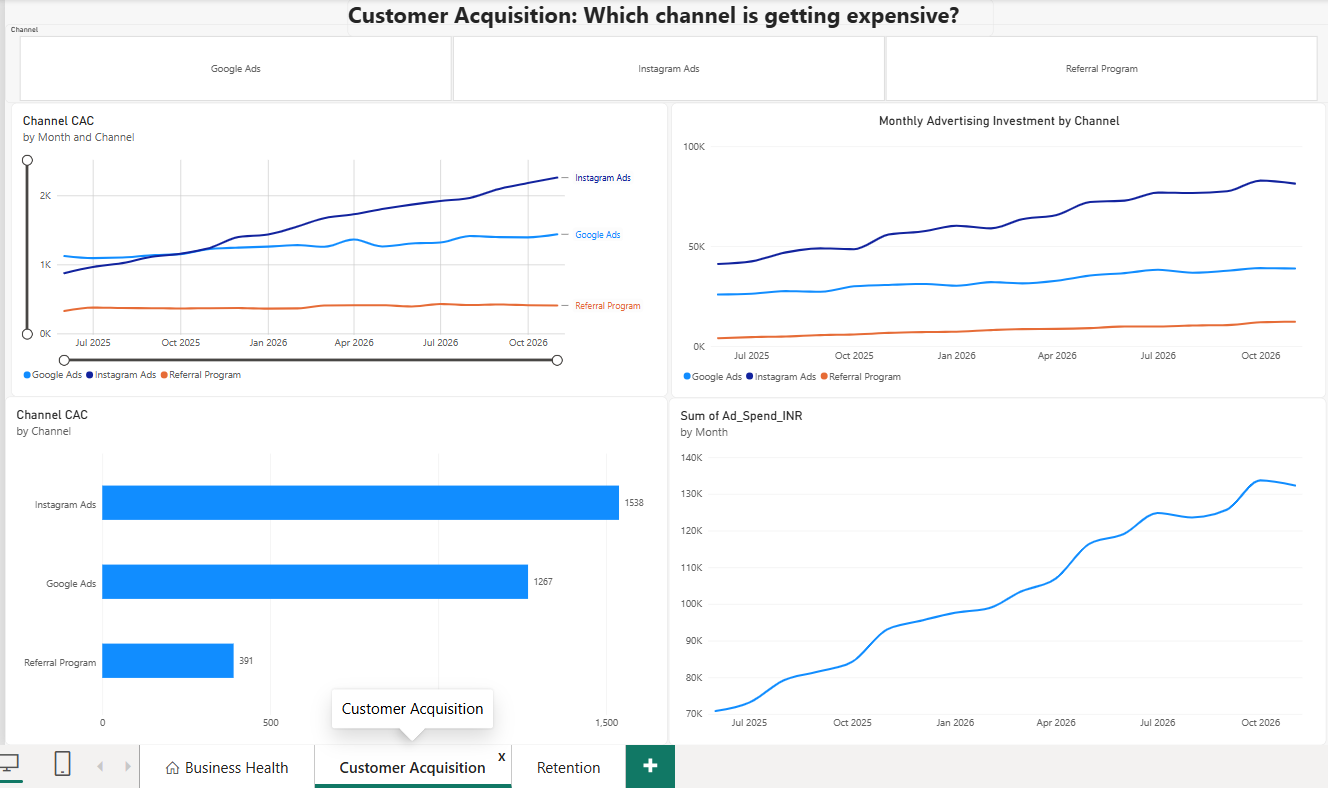

What the dashboard file says about the page in this screenshot:
{"tool":"powerbi","page":{"name":"Customer Acquisition","canvas":[1920,1080],"ordinal":1},"visuals":[{"type":"lineChart","fields":{"Category":["channel_cac_long.Month"],"Series":["channel_cac_long.Channel"],"Y":["channel_cac_long.Channel CAC"]},"box":[9,150.2,950.1,425.3],"z":0},{"type":"clusteredBarChart","fields":{"Category":["channel_cac_long.Channel"],"Y":["channel_cac_long.Channel CAC"]},"box":[0,575.5,959.1,504.9],"z":1000},{"type":"lineChart","fields":{"Category":["monthly_kpi_full.Month"],"Y":["Sum(monthly_kpi_full.Ad_Spend_INR)"]},"box":[960.9,577.3,951.9,503.1],"z":2000},{"type":"slicer","fields":{"Values":["channel_cac_long.Channel"]},"box":[0,36.2,1920.1,114],"z":3000},{"type":"textbox","box":[495.8,0,935.6,54.3],"z":4000},{"type":"lineChart","title":"Monthly Advertising Investment by Channel","fields":{"Category":["channel_cac_long.Month"],"Series":["channel_cac_long.Channel"],"Y":["Sum(channel_cac_long.Ad_Spend_INR)"]},"box":[964.5,150.2,948.3,427.1],"z":4001}]}

Visuals, with their boxes on the page's 1920x1080 design canvas (x1, y1, x2, y2). These are canvas units, not pixel positions in the 1328x788 screenshot, which may show the page scaled, cropped or inside an application window:
lineChart - channel_cac_long.Month x channel_cac_long.Channel: [x1=9, y1=150, x2=959, y2=576]
clusteredBarChart - channel_cac_long.Channel x channel_cac_long.Channel CAC: [x1=0, y1=576, x2=959, y2=1080]
lineChart - monthly_kpi_full.Month x Sum(monthly_kpi_full.Ad_Spend_INR): [x1=961, y1=577, x2=1913, y2=1080]
slicer - channel_cac_long.Channel: [x1=0, y1=36, x2=1920, y2=150]
textbox: [x1=496, y1=0, x2=1431, y2=54]
"Monthly Advertising Investment by Channel" lineChart: [x1=964, y1=150, x2=1913, y2=577]
